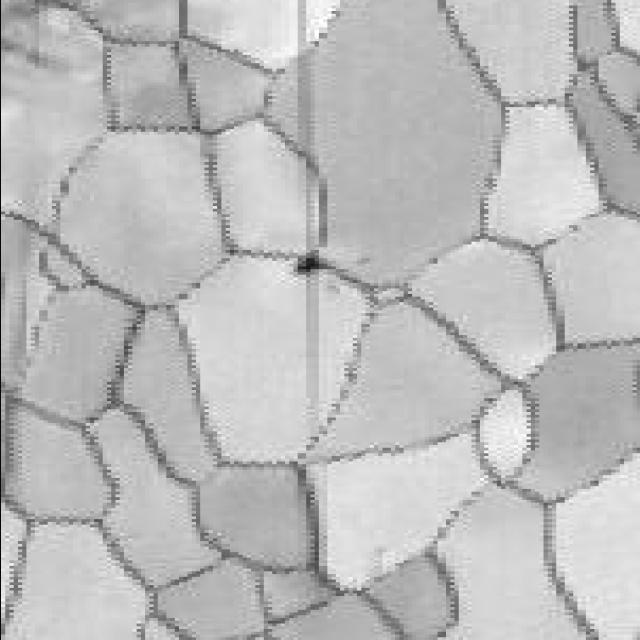good_void: (291, 250, 328, 276)
